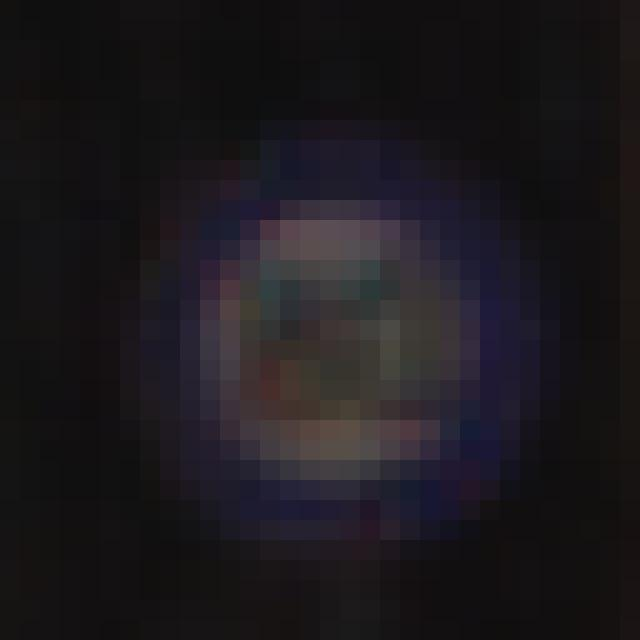SPEED-LIMIT-80: (158, 168, 518, 526)
